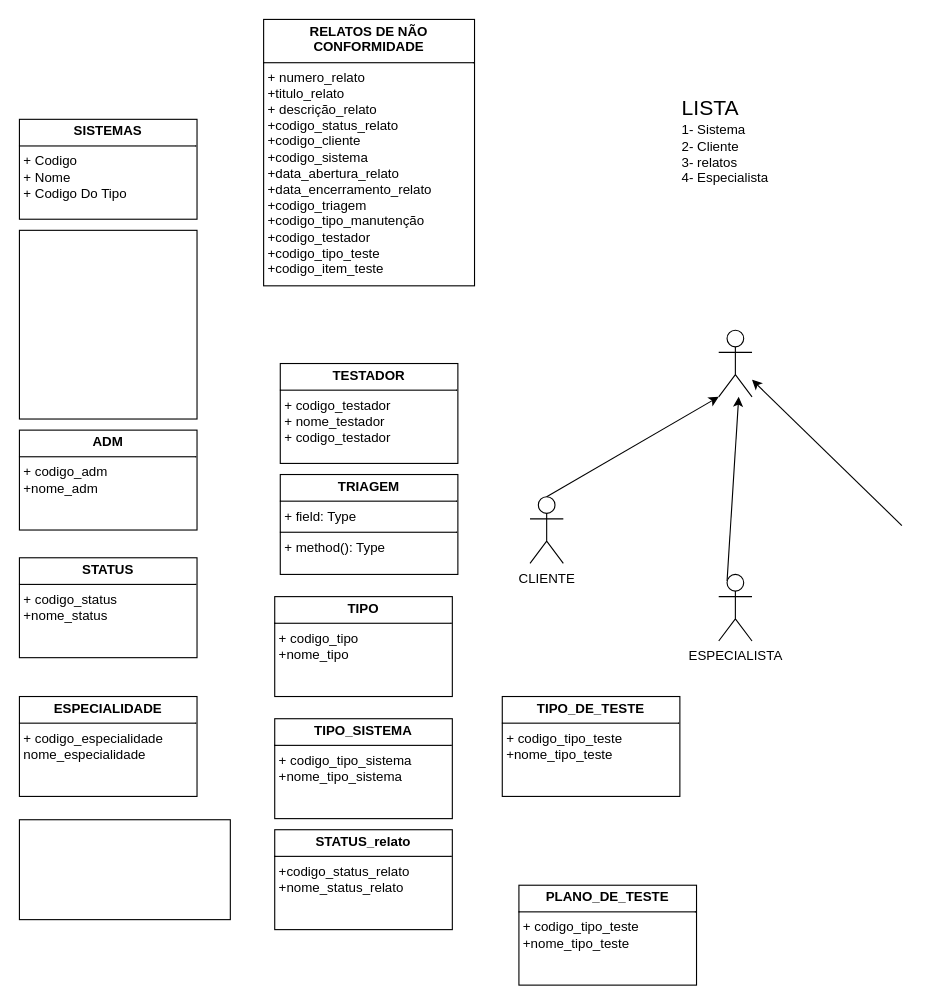
Some shapes in this 930 by 1005 pixel diagram are drawn without their labels. The centre of each missing label's shape, as x and y in pixels:
"CLIENTE + codigo_cliente +nome_cliente +telefone_cliente +genero_cliente" belongs at (x=107, y=324).
"CODIGO_TIPO_MANUTENÇÃO + codigo_tipo_manutenção +nome_tipo_manutenção" belongs at (x=124, y=869).
"USUARIO" belongs at (x=735, y=363).
